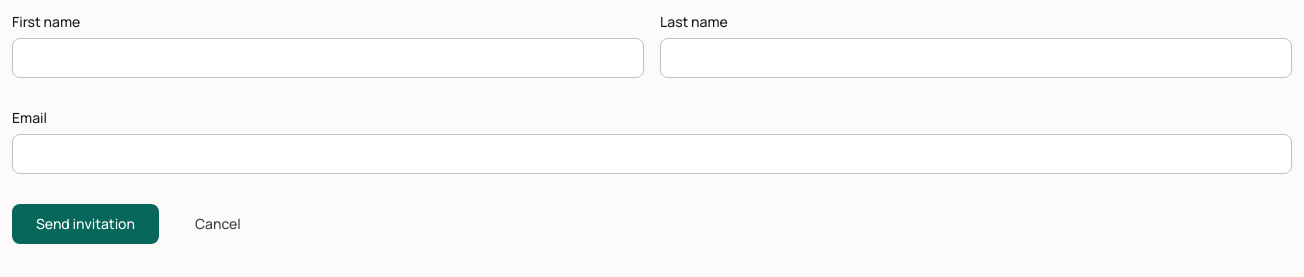
Test: NewPlatformAdminForm › maps a 409 with 'tenant member' detail to the email-collision field error (no toast)
The image size is (1304, 277).
In the field labelled "First name": [328, 58] box [12, 38, 644, 78], type "Ada"
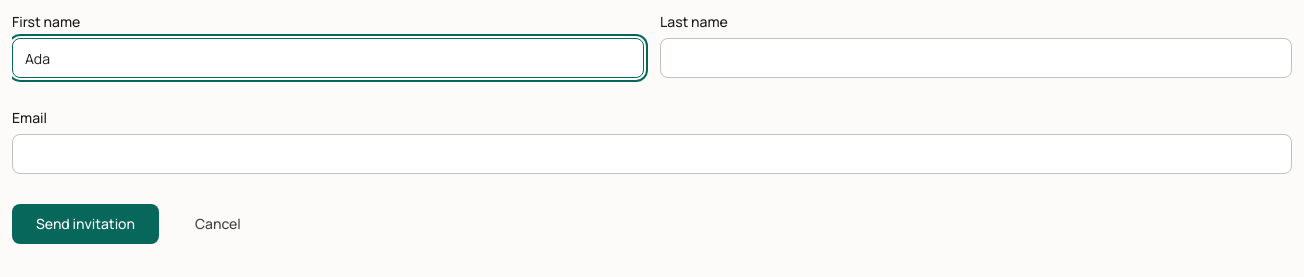
In the field labelled "Last name": [976, 58] box [660, 38, 1292, 78], type "Lovelace"
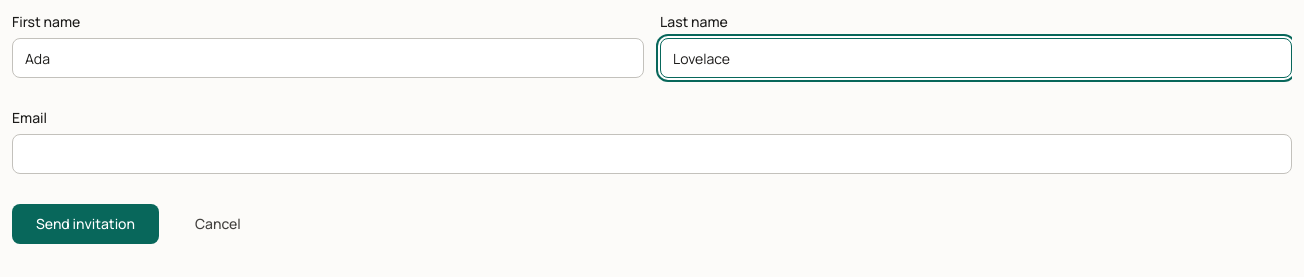
In the field labelled "Email": [652, 154] box [12, 134, 1292, 174], type "ada@example.org"
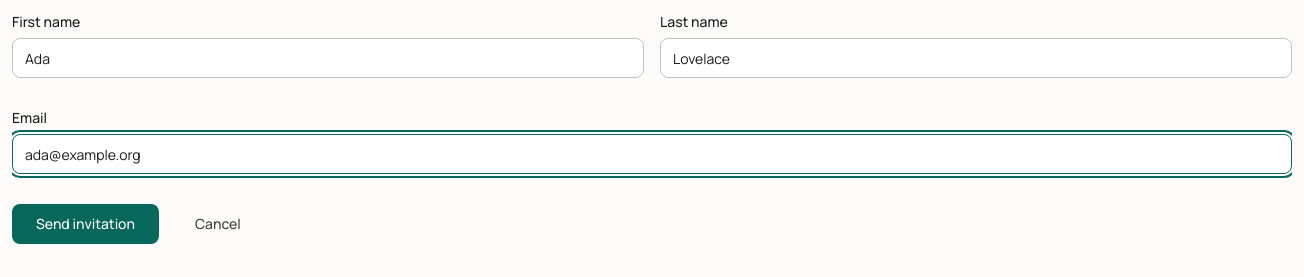
Click the button "Send invitation": [86, 224] box [12, 204, 159, 244]
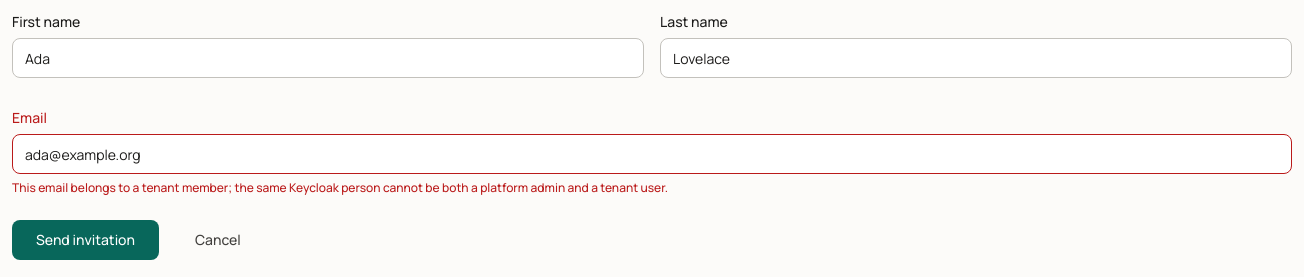
Expected: the text "email belongs to a tenant member" is shown, [12, 179, 668, 196]
